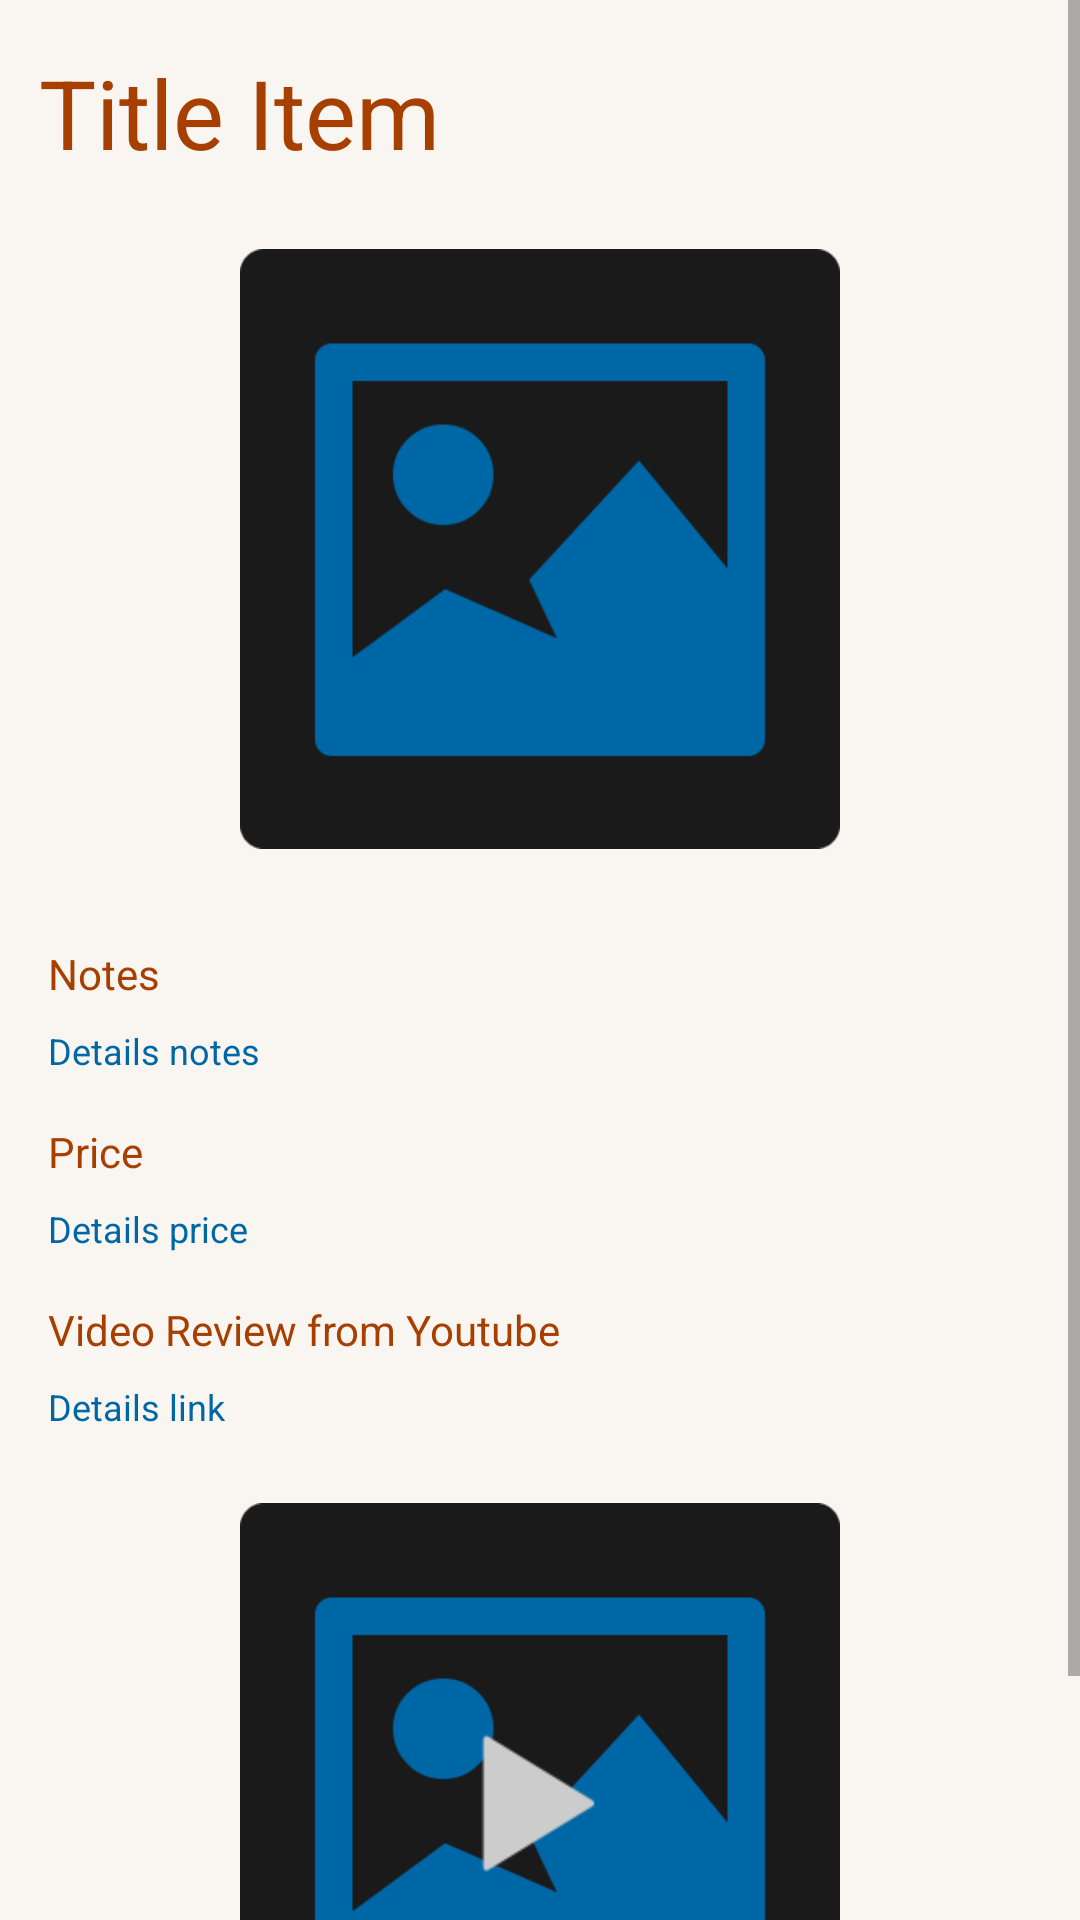

Icon bounding boxes for this 1080*1920 phone screenshot, format bbox=(x1, y1, x2, y2):
play: bbox=(440, 1703, 640, 1892)
